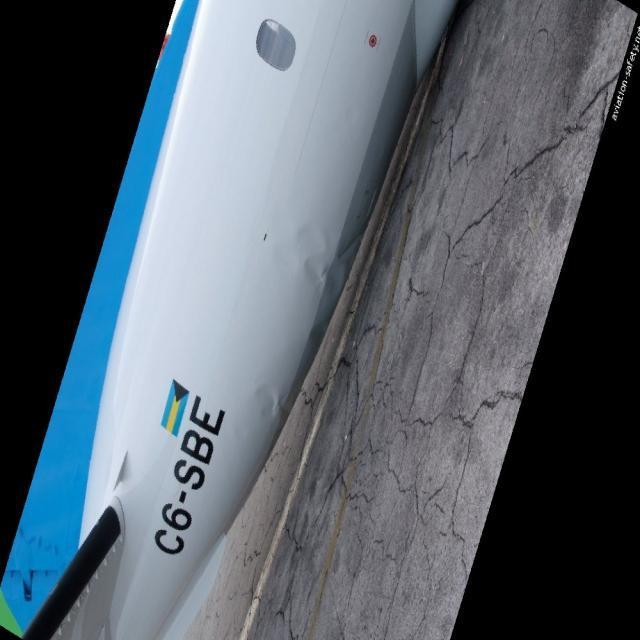dent: (264, 212, 369, 310), (252, 366, 300, 426)
